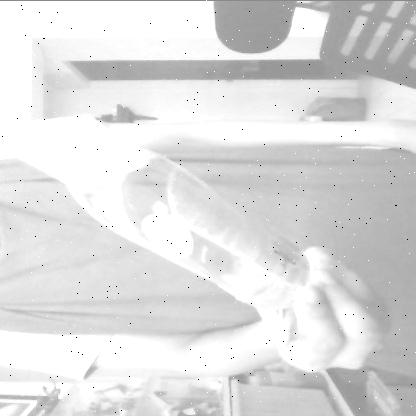Plastic Bottle: (15, 112, 326, 308)
